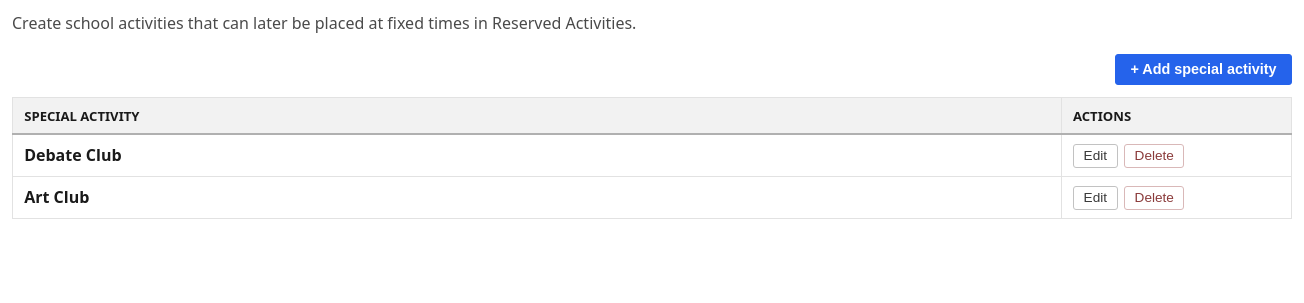
Test: SpecialActivitiesPanel › switches a row into inline edit mode and sends the exact update request
The width and height of the screenshot is (1304, 303).
Expected: the column heading "Debate Club" is shown, [12,134,1061,177]
Click the button "Edit" in the row of "Debate Club" at {"x": 1095, "y": 156}, box [1073,144,1118,168]
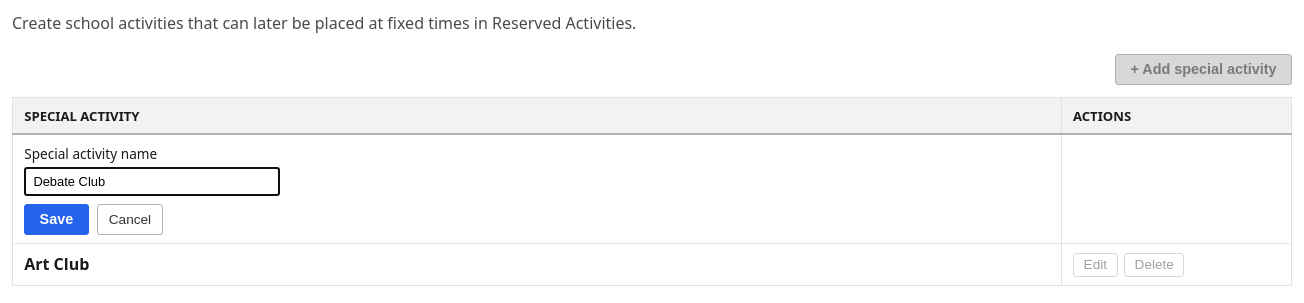
Replace the text in the field labelled "Special activity name" with "Debate" at {"x": 152, "y": 182}, box [24,167,280,196]
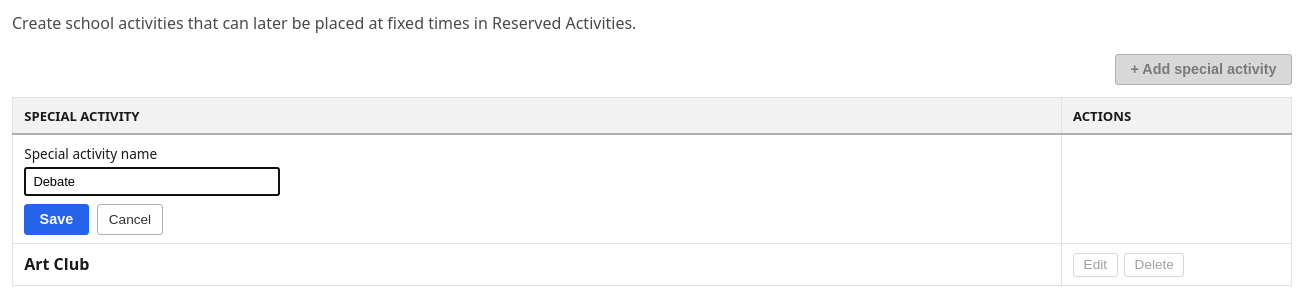
Click the button "Save" at {"x": 56, "y": 219}, box [24,204,89,235]
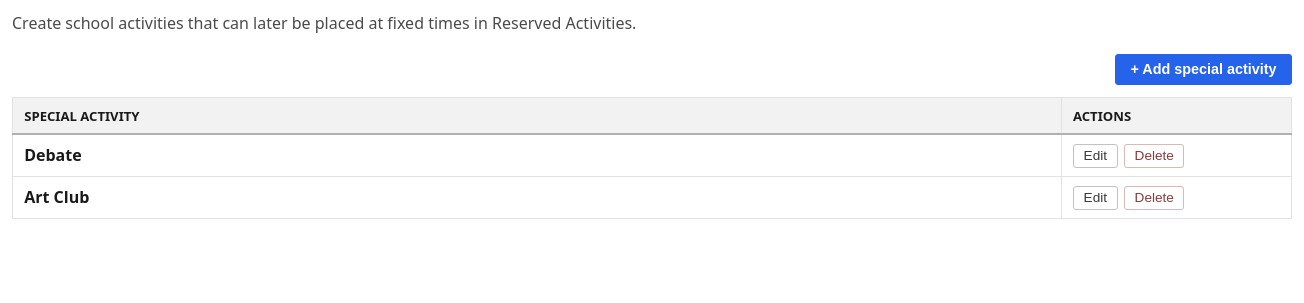
Expected: the column heading "Debate" is shown, [12,134,1061,177]
